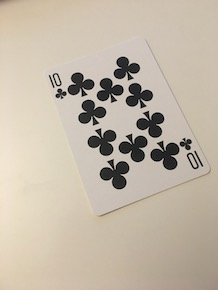TenOfClubs: (41, 36, 212, 220)
